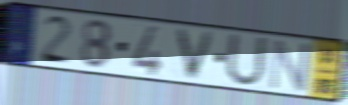2: (35, 15, 76, 66)
4: (130, 24, 164, 78)
8: (80, 18, 114, 71)
N: (267, 37, 313, 94)
U: (223, 31, 271, 90)
V: (173, 26, 217, 83)
